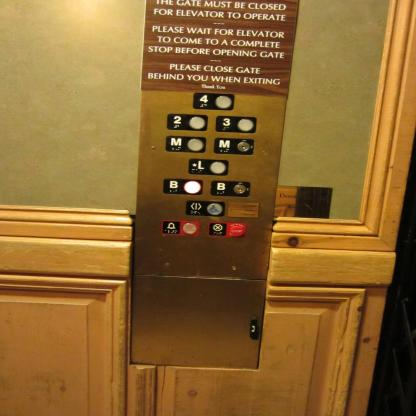2: (166, 112, 208, 132)
3: (215, 115, 258, 133)
4: (193, 92, 235, 111)
B: (162, 177, 204, 196), (209, 179, 251, 198)
M: (213, 136, 255, 156), (165, 135, 207, 153)
alarm: (161, 219, 200, 238)
open: (185, 199, 226, 218)
sL: (188, 157, 229, 176)
stop: (207, 220, 247, 238)
